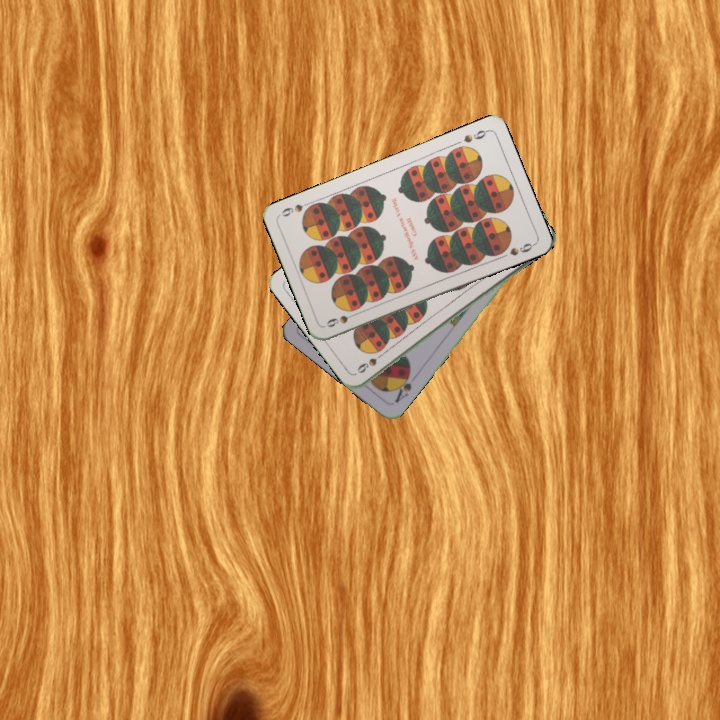S9: (354, 347, 388, 376), (322, 308, 361, 330), (459, 126, 491, 145)
SA: (390, 368, 419, 406)
